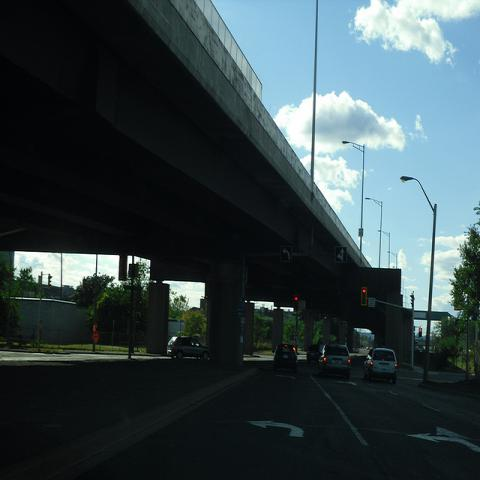car: (318, 341, 353, 381), (364, 348, 397, 384), (168, 336, 210, 360), (271, 342, 300, 374), (307, 344, 323, 364)
